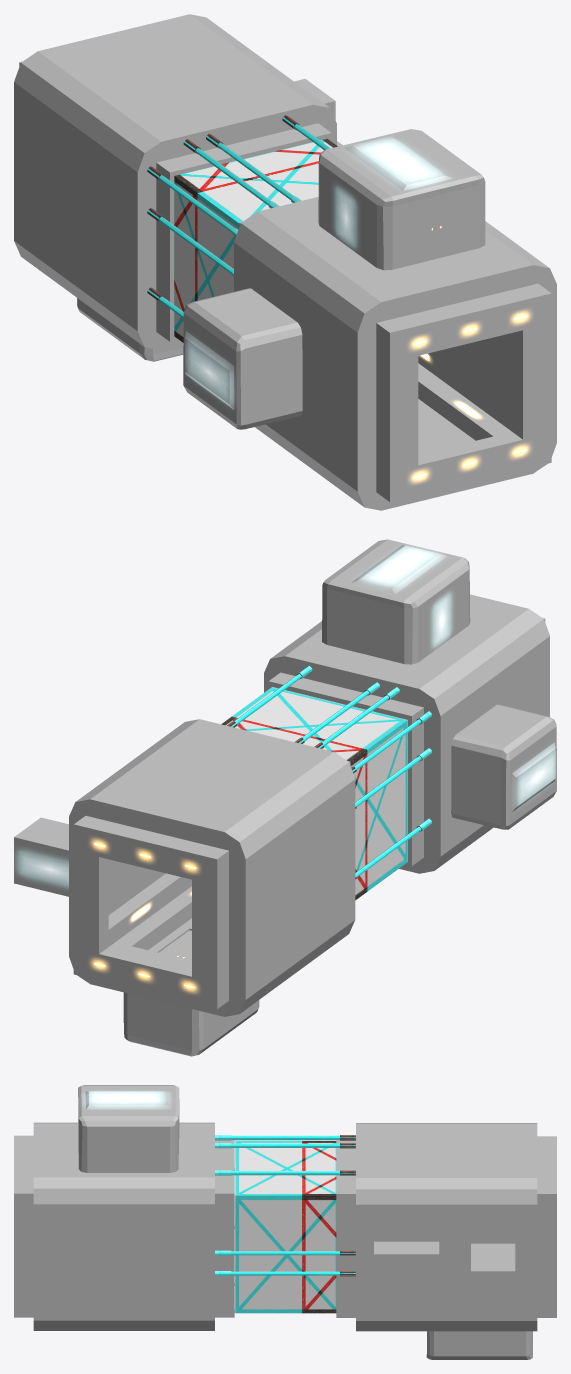
The model's file is Station_PassageModule001.fbx.
3 renders of one model, top to bottom at view 1: azimuth 30°, elevation 25°; view 2: azimuth 150°, elevation 25°; view 3: azimuth 270°, elevation 25°, orthographic. The views are drawn at different scales.
Visible parts, largest first — view 1: Module_passageway, Corridor; view 2: Module_passageway, Corridor; view 3: Module_passageway, Corridor.
Part boxes in pixels (x1,y1,x2,y2): Module_passageway: [14, 14, 556, 510]; Corridor: [147, 115, 337, 342]; Module_passageway: [14, 539, 556, 1056]; Corridor: [221, 666, 431, 900]; Module_passageway: [14, 1085, 556, 1359]; Corridor: [215, 1135, 355, 1313].
Bounding box in the file's own units: 262 × 252 × 490.
